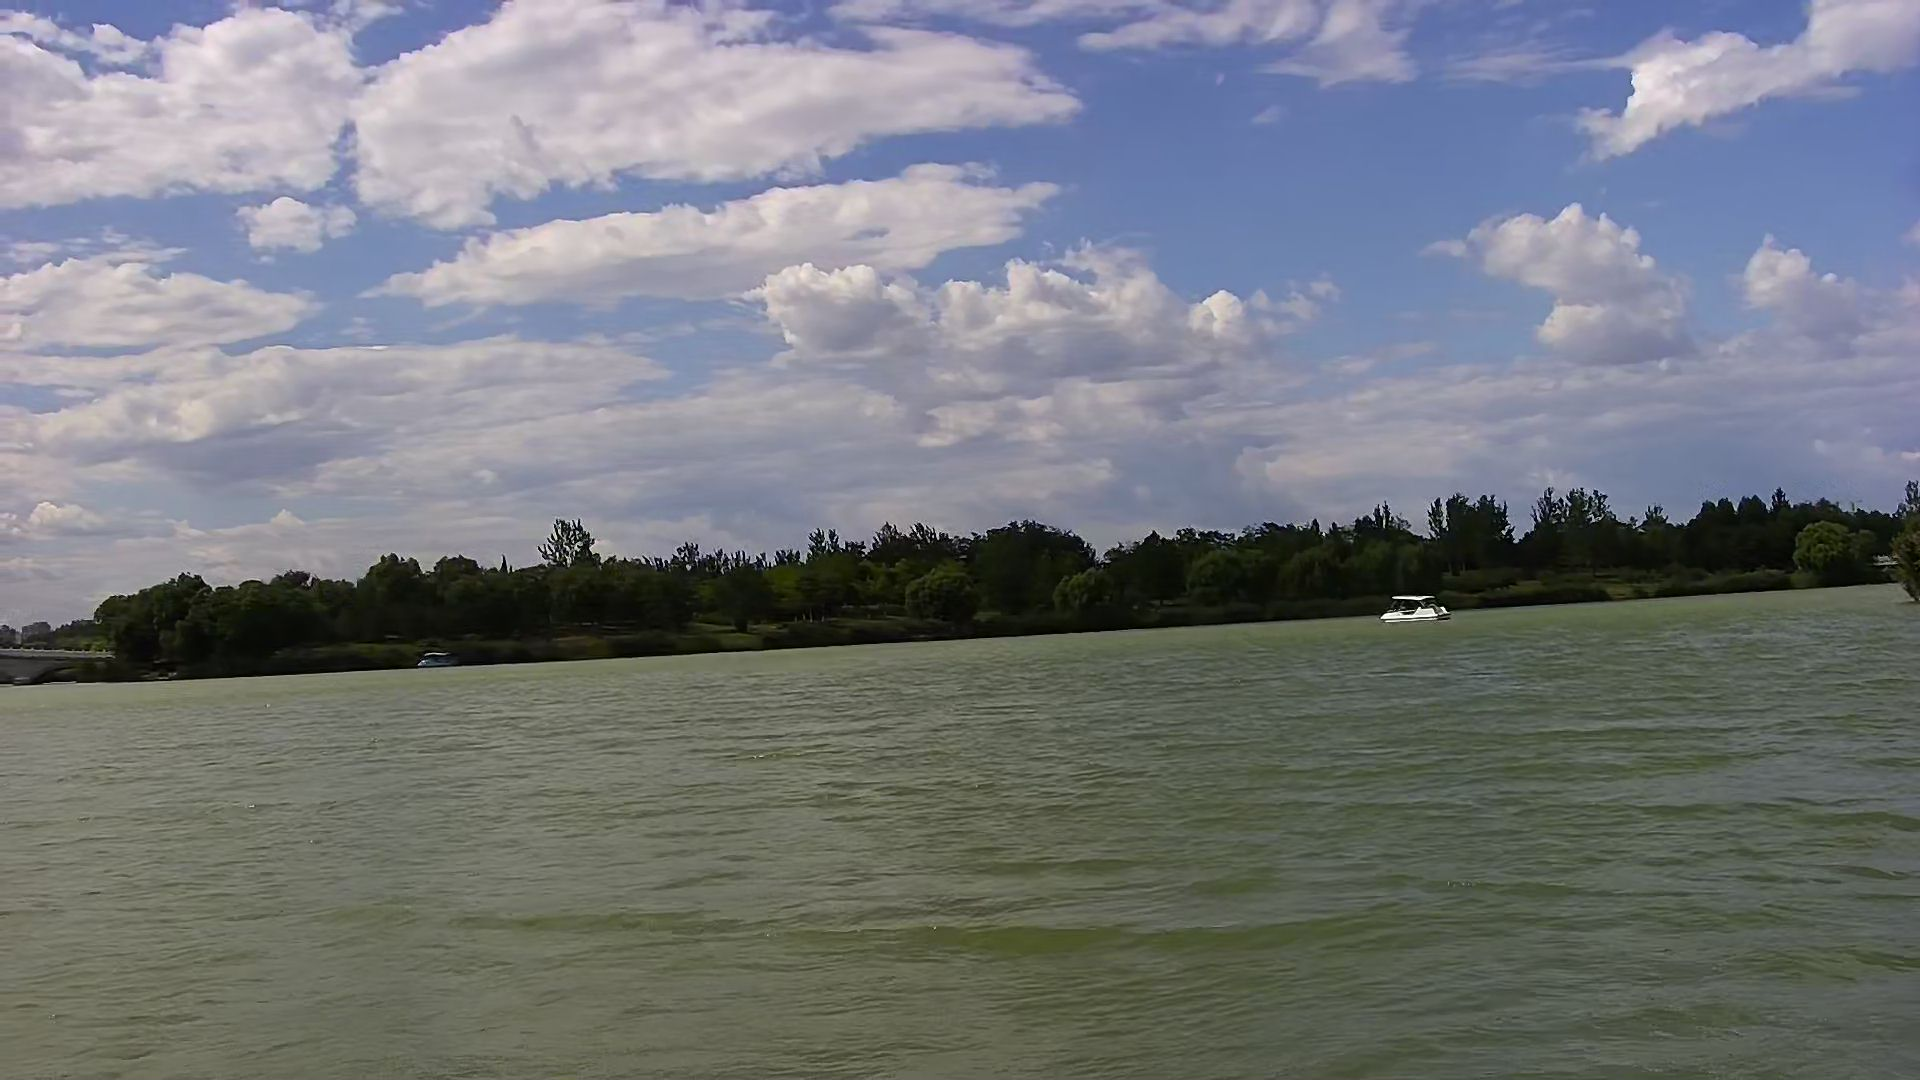boat: (1374, 588, 1457, 626), (413, 647, 459, 670)
bridge: (3, 645, 115, 686)
